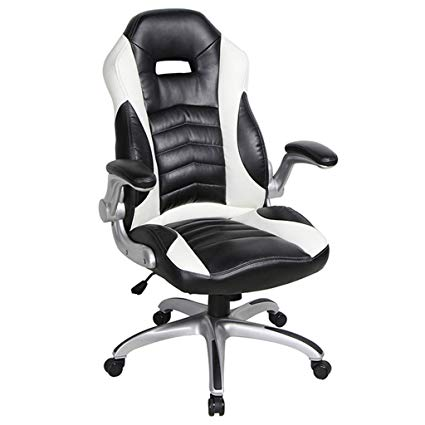chairs: (93, 8, 349, 417)
